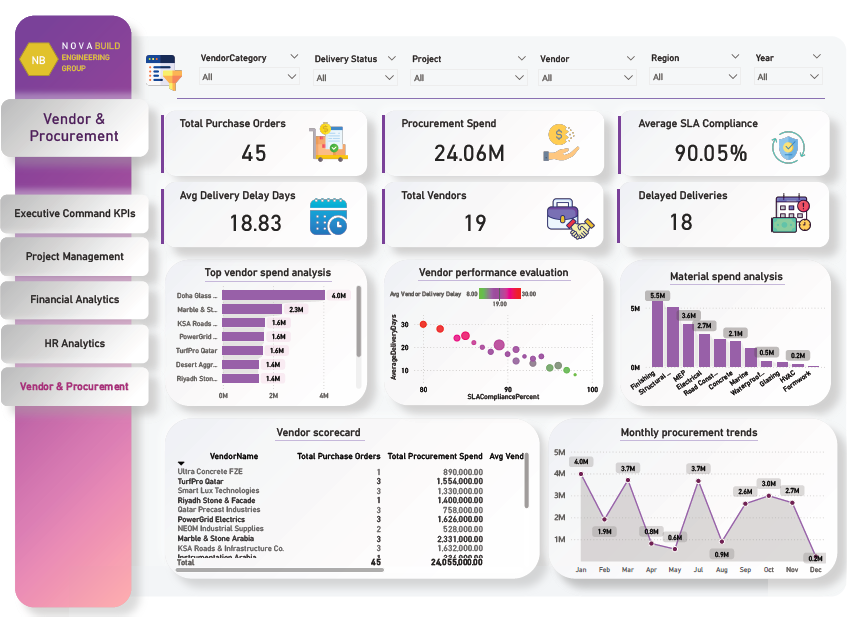

This screenshot's page, from the dashboard's own definition file:
{"tool":"powerbi","page":{"name":"Vendor & Procurement","canvas":[1380,980],"ordinal":5},"visuals":[{"type":"shape","box":[63.9,68.1,61.9,51.5],"z":0,"group":"g1"},{"type":"cardVisual","fields":{"Data":["Measures Table.Total Purchase Orders"]},"box":[283.3,172.9,299,104.2],"z":0},{"type":"textbox","box":[74.2,80.4,40.2,35.1],"z":1000,"group":"g1"},{"type":"cardVisual","fields":{"Data":["Measures Table.Total Procurement Spend"]},"box":[630.2,172.9,281.2,104.2],"z":1000},{"type":"textbox","box":[125.8,58.8,121.6,60.8],"z":2000,"group":"g1"},{"type":"cardVisual","fields":{"Data":["Measures Table.Vendor Count"]},"box":[630.2,288.5,297.9,99],"z":2000},{"type":"cardVisual","fields":{"Data":["Measures Table.Delayed Deliveries"]},"box":[997.9,288.5,208.3,97.9],"z":3000},{"type":"cardVisual","fields":{"Data":["Measures Table.Avg SLA Compliance"]},"box":[998.6,173.6,301.4,104.2],"z":4000},{"type":"cardVisual","fields":{"Data":["Measures Table.Avg Vendor Delivery Delay"]},"box":[283.3,288.5,303.1,99],"z":5000},{"type":"barChart","fields":{"Category":["DimVendor.VendorName"],"Y":["Measures Table.Total Procurement Spend"]},"box":[292.7,436.5,313.5,200],"z":6000},{"type":"scatterChart","fields":{"X":["DimVendor.SLACompliancePercent"],"Y":["DimVendor.AverageDeliveryDays"],"Size":["Measures Table.Total Procurement Spend"]},"box":[640.9,446.1,336.5,188.7],"z":7000},{"type":"columnChart","fields":{"Category":["DimMaterialCategory.MaterialCategory"],"Y":["Measures Table.Total Material Cost"]},"box":[1008.2,445.9,326.2,188.5],"z":8000},{"type":"pivotTable","fields":{"Rows":["DimVendor.VendorName"],"Values":["Measures Table.Total Purchase Orders","Measures Table.Total Procurement Spend","Measures Table.Avg Vendor Delivery Delay","Measures Table.Avg SLA Compliance"]},"box":[303.3,704.9,567.2,200],"z":9000},{"type":"lineChart","fields":{"Category":["DimDate.MonthShort"],"Y":["Measures Table.Total Procurement Spend"]},"box":[898,696,436.4,212.1],"z":10000},{"type":"pageNavigator","box":[35.9,305.4,231.5,331.5],"z":11000},{"type":"textbox","box":[34.4,168.9,232.8,82],"z":12000},{"type":"shape","box":[356.2,417.7,199,49],"z":13000},{"type":"textbox","box":[303.1,413.5,303.1,33.3],"z":14000},{"type":"textbox","box":[311.5,180.2,200,33.3],"z":15000},{"type":"textbox","box":[659.4,180.2,200,33.3],"z":16000},{"type":"textbox","box":[1031.2,180.2,200,33.3],"z":17000},{"type":"textbox","box":[311.5,292.7,200,33.3],"z":18000},{"type":"textbox","box":[659.4,292.7,200,33.3],"z":19000},{"type":"textbox","box":[1031.2,292.7,200,33.3],"z":20000},{"type":"textbox","box":[640.9,413.9,336.5,33],"z":21000},{"type":"shape","box":[689.6,417.4,239.1,48.7],"z":22000},{"type":"textbox","box":[1008.1,420.2,332.3,32.3],"z":23000},{"type":"shape","box":[1086.9,423.2,177.8,48.5],"z":24000},{"type":"shape","box":[1008.1,667.7,215.2,48.5],"z":25000},{"type":"textbox","box":[949.5,663.6,332.3,32.3],"z":26000},{"type":"textbox","box":[367.7,663.6,332.3,32.3],"z":27000},{"type":"shape","box":[465.7,667.7,140.4,48.5],"z":28000},{"type":"image","box":[256.8,83,68.2,64.8],"z":29000},{"type":"group","id":"g1","title":"Group 3","box":[63.9,58.8,183.5,60.8],"z":30000},{"type":"shape","box":[311.7,140,1016.7,30],"z":31000},{"type":"slicer","fields":{"Values":["DimDate.Year"]},"box":[1206.9,79.2,127.8,61.1],"z":32000},{"type":"slicer","fields":{"Values":["DimRegion.Region"]},"box":[1043.1,79.2,163.9,61.1],"z":33000},{"type":"slicer","fields":{"Values":["DimVendor.VendorName"]},"box":[869.4,80.6,173.6,61.1],"z":34000},{"type":"slicer","fields":{"Values":["DimProjects.ProjectName"]},"box":[668.1,80.6,204.2,61.1],"z":35000},{"type":"slicer","fields":{"Values":["DimVendor.VendorCategory"]},"box":[336.1,79.2,179.2,61.1],"z":36000},{"type":"slicer","fields":{"Values":["FactPurchaseOrder.DeliveryStatus"]},"box":[515.3,80.6,152.8,61.1],"z":37000},{"type":"image","box":[505.6,188.9,86.1,70.8],"z":38000},{"type":"image","box":[872.2,188.9,86.1,70.8],"z":39000},{"type":"image","box":[1227.8,197.2,86.1,70.8],"z":40000},{"type":"image","box":[505.6,305.6,86.1,70.8],"z":41000},{"type":"image","box":[875,301.4,108.3,86.1],"z":42000},{"type":"image","box":[1231.9,300,86.1,70.8],"z":43000}]}

Visuals, with their boxes on the page's 1380x980 design canvas (x1, y1, x2, y2). These are canvas units, not pixel positions in the 860x620 screenshot, which may show the page scaled, cropped or inside an application window:
shape: crop(64, 68, 126, 120)
cardVisual - Measures Table.Total Purchase Orders: crop(283, 173, 582, 277)
textbox: crop(74, 80, 114, 116)
cardVisual - Measures Table.Total Procurement Spend: crop(630, 173, 911, 277)
textbox: crop(126, 59, 247, 120)
cardVisual - Measures Table.Vendor Count: crop(630, 288, 928, 388)
cardVisual - Measures Table.Delayed Deliveries: crop(998, 288, 1206, 386)
cardVisual - Measures Table.Avg SLA Compliance: crop(999, 174, 1300, 278)
cardVisual - Measures Table.Avg Vendor Delivery Delay: crop(283, 288, 586, 388)
barChart - DimVendor.VendorName x Measures Table.Total Procurement Spend: crop(293, 436, 606, 636)
scatterChart - DimVendor.SLACompliancePercent x DimVendor.AverageDeliveryDays: crop(641, 446, 977, 635)
columnChart - DimMaterialCategory.MaterialCategory x Measures Table.Total Material Cost: crop(1008, 446, 1334, 634)
pivotTable - DimVendor.VendorName x Measures Table.Total Purchase Orders: crop(303, 705, 870, 905)
lineChart - DimDate.MonthShort x Measures Table.Total Procurement Spend: crop(898, 696, 1334, 908)
pageNavigator: crop(36, 305, 267, 637)
textbox: crop(34, 169, 267, 251)
shape: crop(356, 418, 555, 467)
textbox: crop(303, 414, 606, 447)
textbox: crop(312, 180, 512, 214)
textbox: crop(659, 180, 859, 214)
textbox: crop(1031, 180, 1231, 214)
textbox: crop(312, 293, 512, 326)
textbox: crop(659, 293, 859, 326)
textbox: crop(1031, 293, 1231, 326)
textbox: crop(641, 414, 977, 447)
shape: crop(690, 417, 929, 466)
textbox: crop(1008, 420, 1340, 452)
shape: crop(1087, 423, 1265, 472)
shape: crop(1008, 668, 1223, 716)
textbox: crop(950, 664, 1282, 696)
textbox: crop(368, 664, 700, 696)
shape: crop(466, 668, 606, 716)
image: crop(257, 83, 325, 148)
"Group 3" group: crop(64, 59, 247, 120)
shape: crop(312, 140, 1328, 170)
slicer - DimDate.Year: crop(1207, 79, 1335, 140)
slicer - DimRegion.Region: crop(1043, 79, 1207, 140)
slicer - DimVendor.VendorName: crop(869, 81, 1043, 142)
slicer - DimProjects.ProjectName: crop(668, 81, 872, 142)
slicer - DimVendor.VendorCategory: crop(336, 79, 515, 140)
slicer - FactPurchaseOrder.DeliveryStatus: crop(515, 81, 668, 142)
image: crop(506, 189, 592, 260)
image: crop(872, 189, 958, 260)
image: crop(1228, 197, 1314, 268)
image: crop(506, 306, 592, 376)
image: crop(875, 301, 983, 388)
image: crop(1232, 300, 1318, 371)
